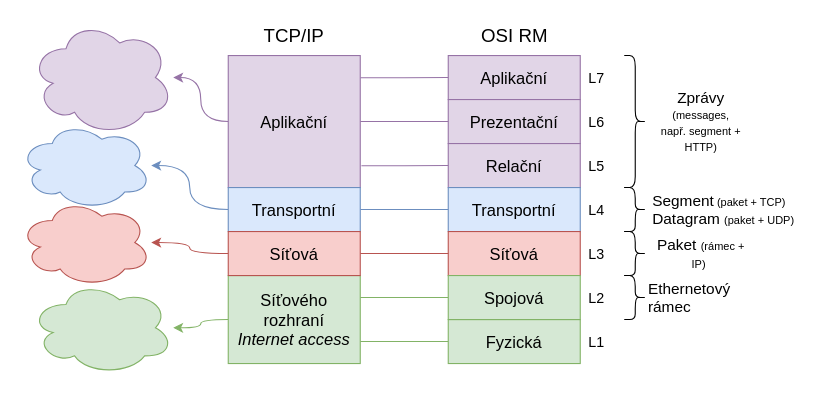
The diagram is 831 pixels wide and 394 high, and some of its shapes have lost their labels. The box of each missing label's shape, as (x1, y1, x2, y2) in pixels:
IP, DHCP, ARP, ICMP: (18, 197, 151, 287)
LAN, ADSL, ETHERNET, ARPANET: (29, 280, 173, 375)
SSH, DNS, POP3, IMAP, FTP, TELNET, SMTP: (29, 19, 173, 135)
TCP, UDP: (18, 120, 151, 210)
